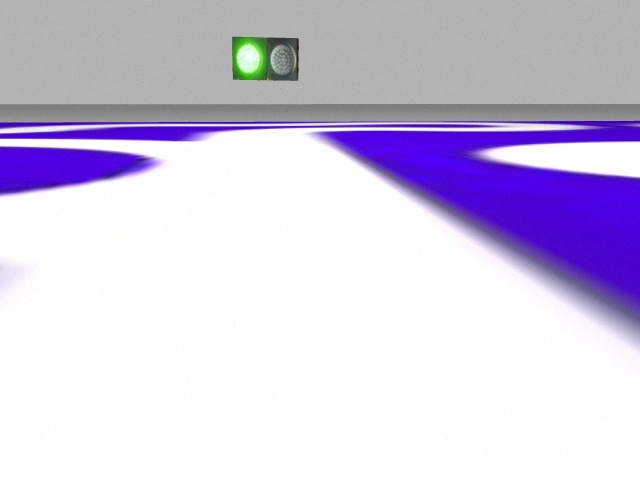green: (231, 36, 267, 83)
